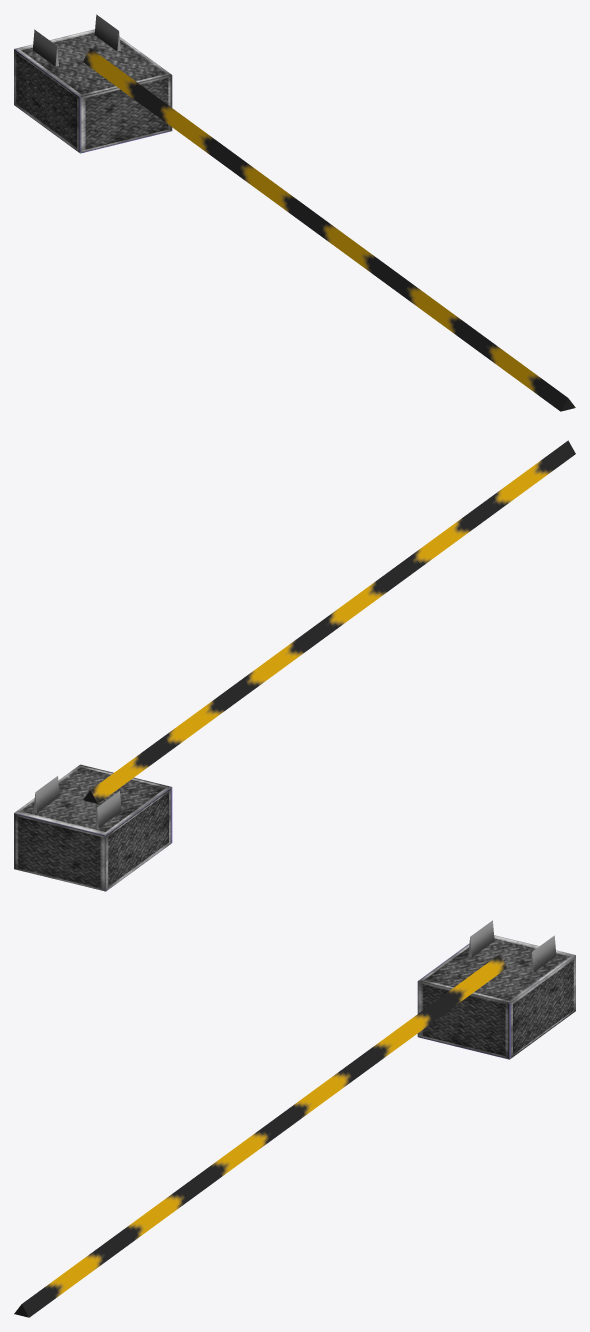
The model's file is Garage_Door_Opener.fbx.
3 renders of one model, top to bottom at view 1: azimuth 30°, elevation 25°; view 2: azimuth 150°, elevation 25°; view 3: azimuth 330°, elevation 25°, orthographic.
Visible parts, largest first — view 1: Garage_Door_Opener_1; view 2: Garage_Door_Opener_1; view 3: Garage_Door_Opener_1.
Part boxes in pixels (x1,y1,x2,y2): Garage_Door_Opener_1: (14,14,575,411); Garage_Door_Opener_1: (14,440,575,891); Garage_Door_Opener_1: (14,920,575,1317).
Size of the model in its own units: 30.48 by 24.19 by 292.
